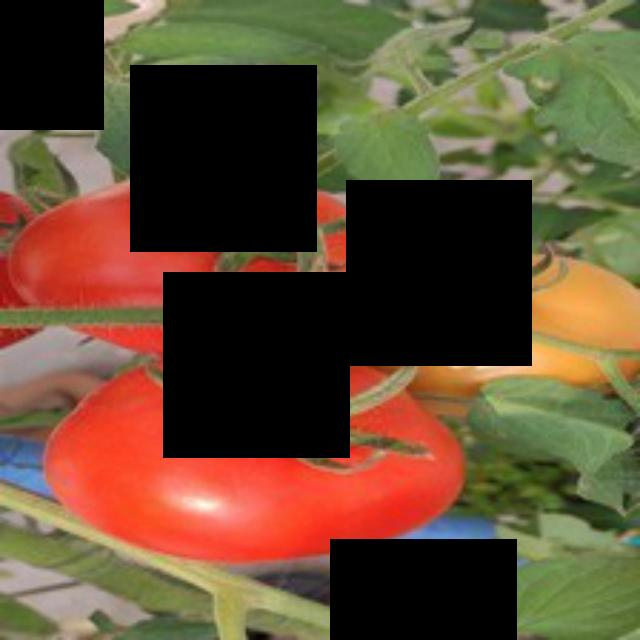tomato: (25, 336, 484, 574), (3, 158, 452, 360)
